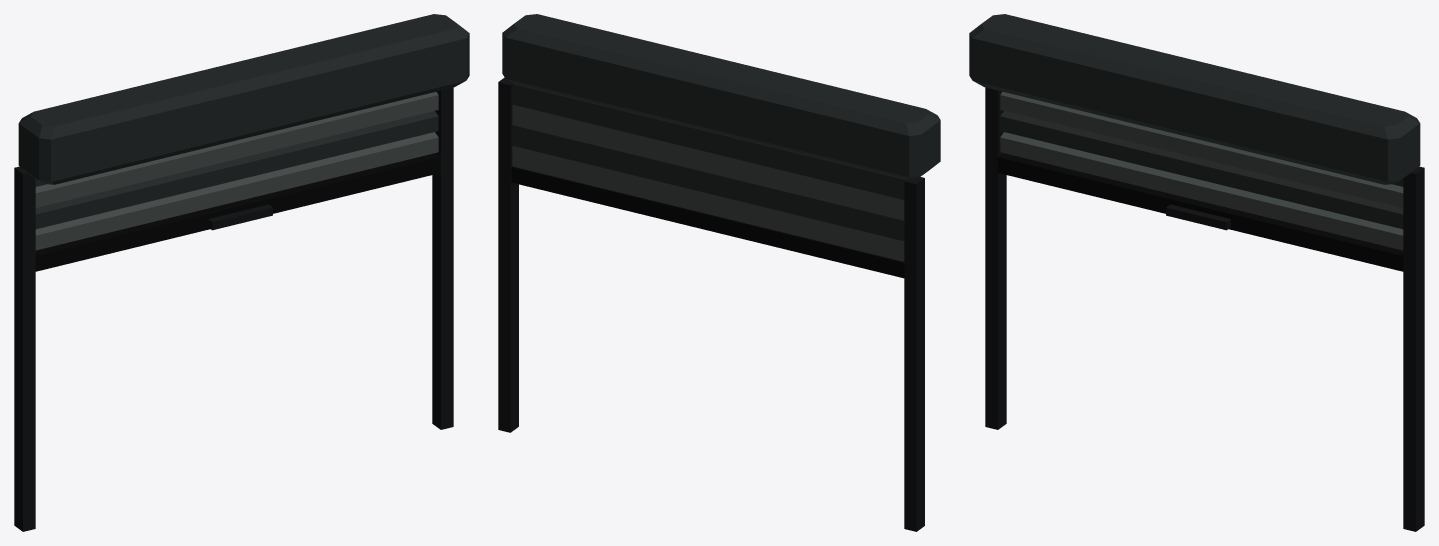
The model's file is SM_Shop_SecurityShutter_Window_Open.glb.
3 renders of one model, left to right at view 1: azimuth 30°, elevation 25°; view 2: azimuth 150°, elevation 25°; view 3: azimuth 330°, elevation 25°, orthographic. The views are drawn at different scales.
Visible parts, largest first — view 1: SM_Shop_SecurityShutter_Window_Open; view 2: SM_Shop_SecurityShutter_Window_Open; view 3: SM_Shop_SecurityShutter_Window_Open.
Boxes of the visible parts, x1,y1,x2,y2 form: SM_Shop_SecurityShutter_Window_Open: [14, 14, 469, 531]; SM_Shop_SecurityShutter_Window_Open: [498, 14, 940, 531]; SM_Shop_SecurityShutter_Window_Open: [969, 14, 1424, 531].
Size of the model in its own units: 1.7 by 1.56 by 0.2.
1 material, 1 textured.
